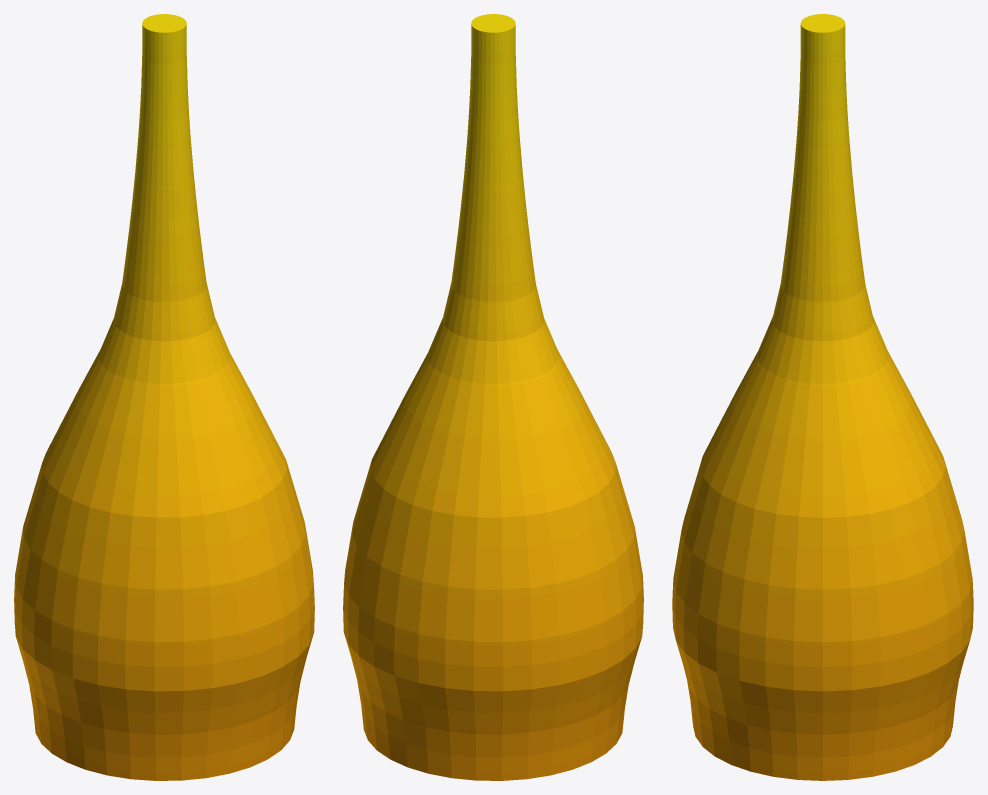
The model's file is UniqueBottle5.fbx.
3 views of the same model, side by side, from view 1: azimuth 30°, elevation 25°; view 2: azimuth 150°, elevation 25°; view 3: azimuth 270°, elevation 25° (orthographic).
Visible parts, largest first — view 1: UniqueBottle5; view 2: UniqueBottle5; view 3: UniqueBottle5.
Boxes of the visible parts, x1,y1,x2,y2 form: UniqueBottle5: (14,14,314,780); UniqueBottle5: (343,14,643,780); UniqueBottle5: (672,14,973,780).
Size of the model in its own units: 69.32 by 178 by 69.32.
